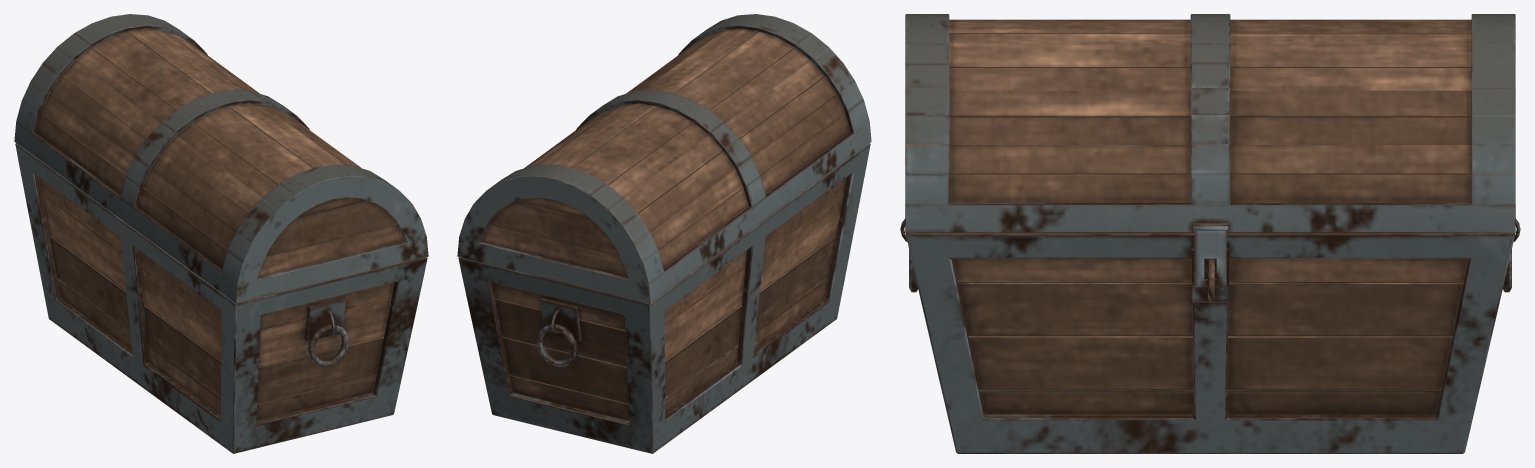
File: chest-2.glb
The picture shows the model from 3 angles, left to right: view 1: azimuth 30°, elevation 25°; view 2: azimuth 150°, elevation 25°; view 3: azimuth 270°, elevation 25°; orthographic projection. The views are drawn at different scales.
Visible parts, largest first — view 1: Treasure Chest; view 2: Treasure Chest; view 3: Treasure Chest.
Boxes of the visible parts, x1=… form: Treasure Chest: x1=14, y1=14, x2=428, y2=453; Treasure Chest: x1=457, y1=14, x2=871, y2=453; Treasure Chest: x1=900, y1=14, x2=1520, y2=453.
Bounding box in the file's own units: 2.66 × 3.32 × 5.01.
Materials: 1 (1 with a texture image).
